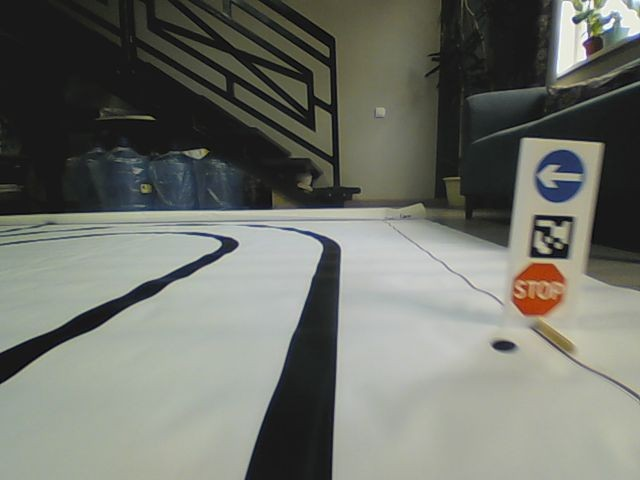Stop: (510, 260, 567, 317)
